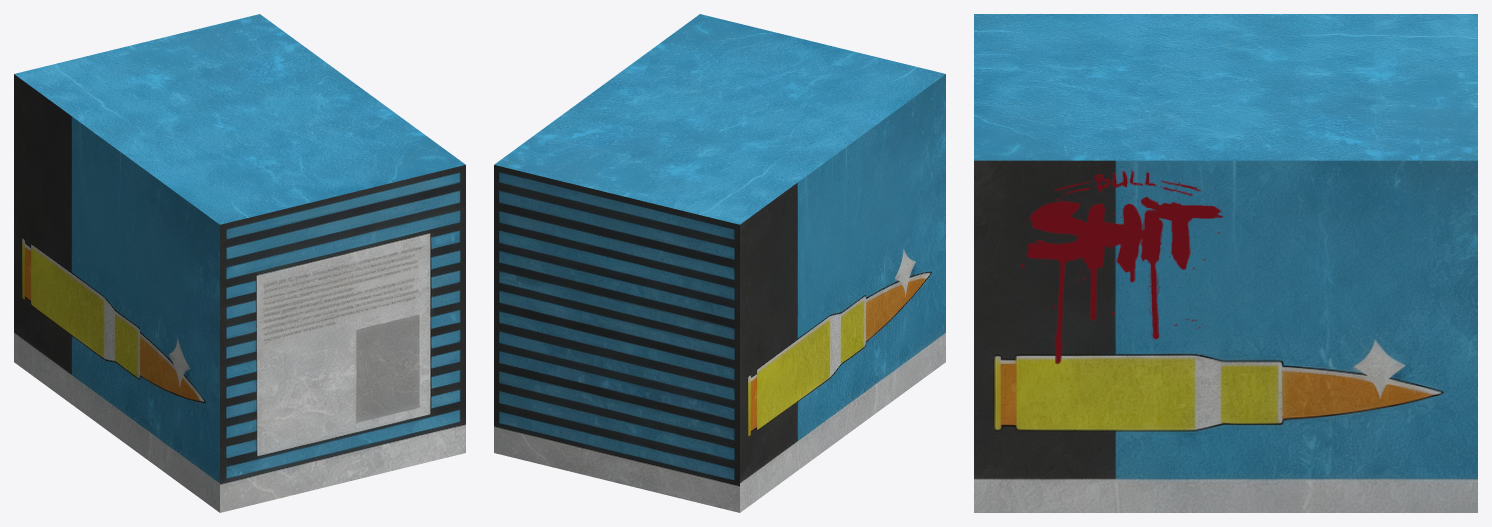
File: ammo-sniper.glb
The picture shows the model from 3 angles, left to right: view 1: azimuth 30°, elevation 25°; view 2: azimuth 150°, elevation 25°; view 3: azimuth 270°, elevation 25°; orthographic projection. The views are drawn at different scales.
Visible parts, largest first — view 1: pCube1_lambert1_0_0; view 2: pCube1_lambert1_0_0; view 3: pCube1_lambert1_0_0.
Part boxes in pixels (left/top/right/bottom): pCube1_lambert1_0_0: left=14, top=14, right=465, bottom=512; pCube1_lambert1_0_0: left=494, top=14, right=945, bottom=512; pCube1_lambert1_0_0: left=974, top=14, right=1477, bottom=512.
Bounding box in the file's own units: 25.29 × 28.31 × 36.7.
1 material, 1 textured.
